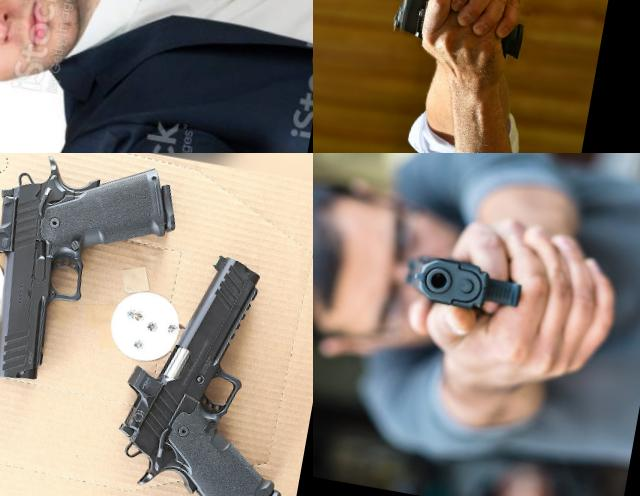handgun: (99, 239, 313, 496), (0, 153, 188, 404), (388, 0, 546, 84), (400, 247, 530, 320)
